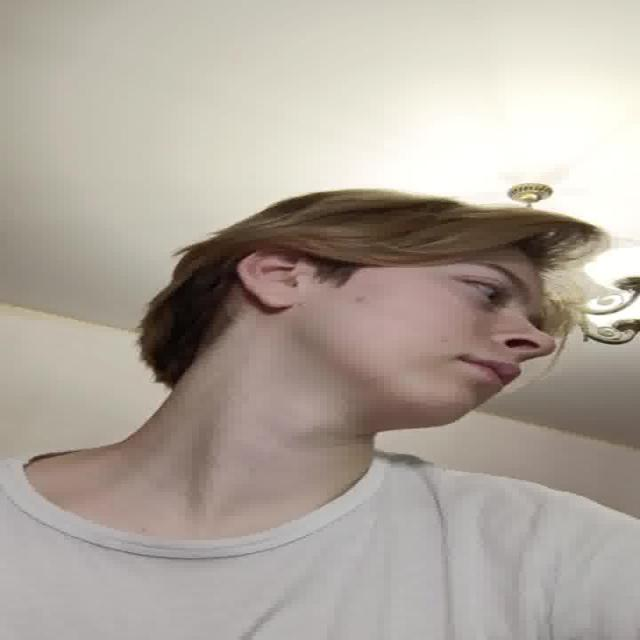earlobe: (235, 248, 298, 308)
